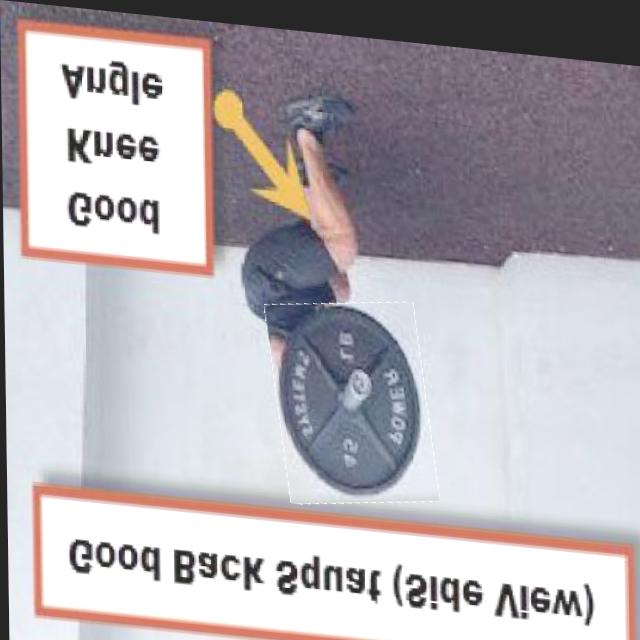barbell: (271, 287, 434, 506)
